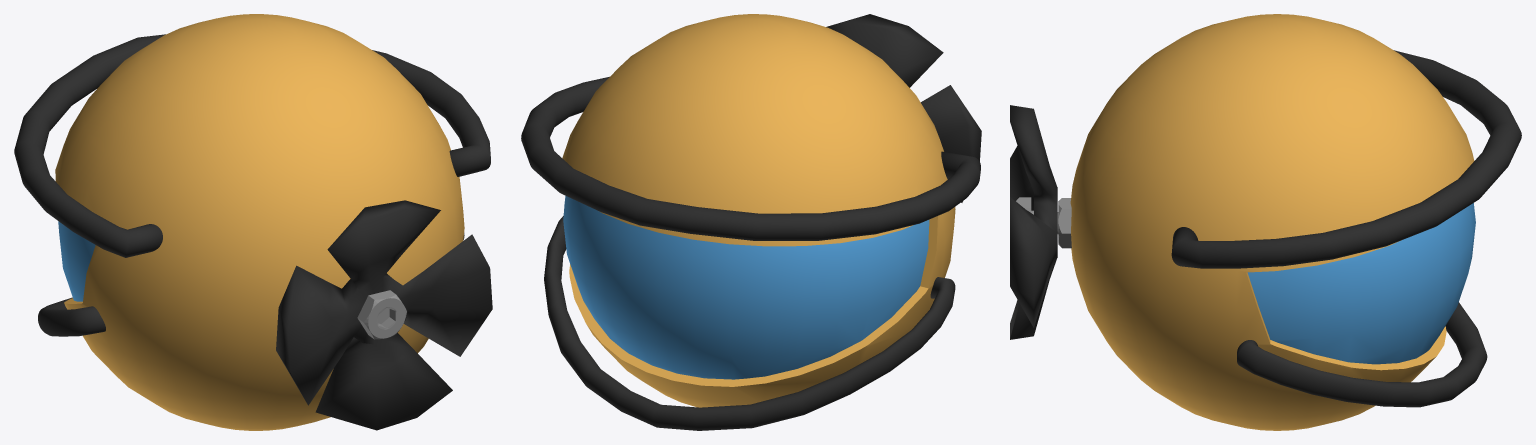
Rendered from submarine5.fbx.
The picture shows the model from 3 angles, left to right: view 1: azimuth 30°, elevation 25°; view 2: azimuth 150°, elevation 25°; view 3: azimuth 270°, elevation 25°; orthographic projection. The views are drawn at different scales.
Visible parts, largest first — view 1: Body, Fan, Top bumper, Bottom Bumper, Bolt.001, Visor; view 2: Body, Visor, Top bumper, Bottom Bumper, Fan; view 3: Body, Visor, Top bumper, Fan, Bottom Bumper, Nut.
Part boxes in pixels (left/top/right/bottom): Body: left=55, top=14, right=464, bottom=430; Fan: left=276, top=200, right=492, bottom=430; Top bumper: left=14, top=34, right=490, bottom=257; Bottom Bumper: left=38, top=233, right=464, bottom=336; Bolt.001: left=357, top=290, right=406, bottom=339; Visor: left=58, top=221, right=95, bottom=301; Body: left=562, top=14, right=955, bottom=407; Visor: left=563, top=195, right=929, bottom=379; Top bumper: left=521, top=76, right=980, bottom=240; Bottom Bumper: left=544, top=216, right=955, bottom=430; Fan: left=826, top=14, right=981, bottom=202; Body: left=1070, top=14, right=1474, bottom=430; Visor: left=1247, top=203, right=1475, bottom=364; Top bumper: left=1171, top=50, right=1521, bottom=268; Fan: left=1010, top=105, right=1057, bottom=339; Bottom Bumper: left=1237, top=302, right=1487, bottom=407; Nut: left=1058, top=198, right=1071, bottom=248.
Size of the model in its own units: 244 by 210 by 258.
